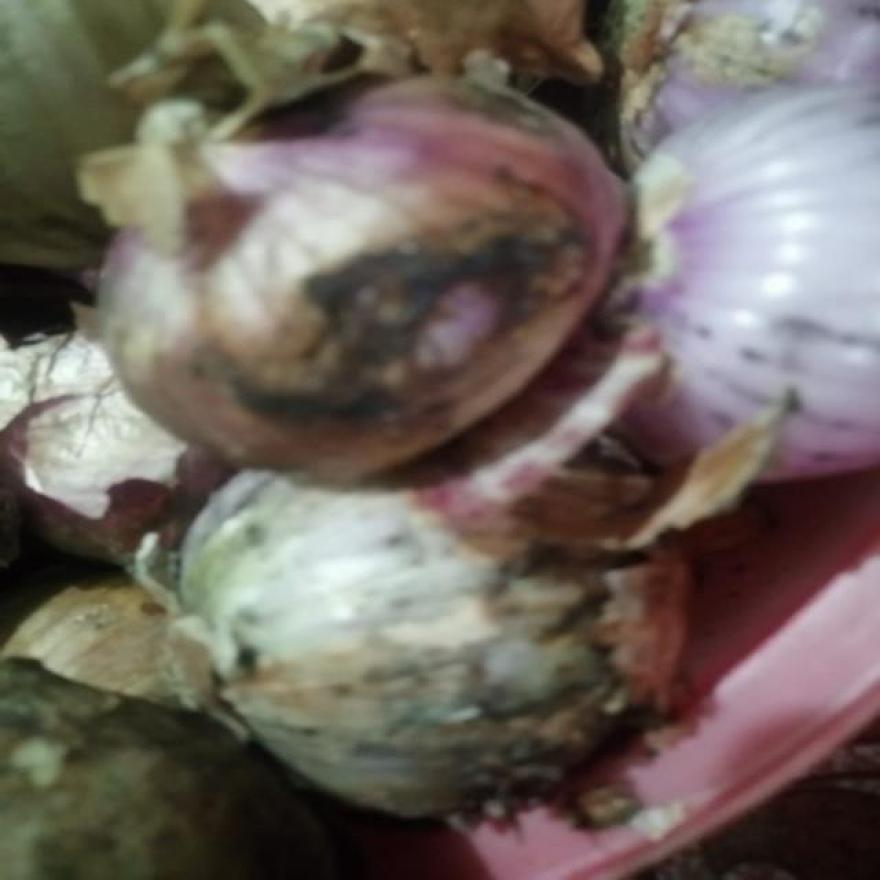Rotten: (270, 239, 578, 414), (423, 595, 629, 820)
